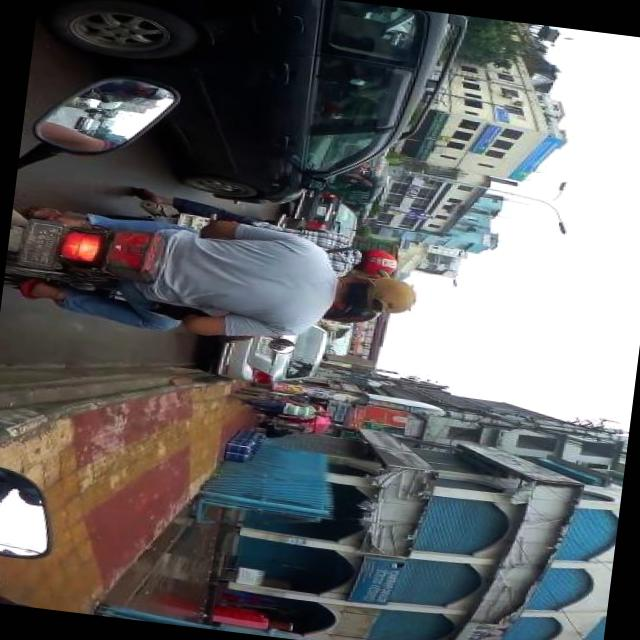car: (16, 0, 472, 235), (197, 310, 328, 388), (284, 186, 366, 244)
motorcycle: (4, 196, 429, 363), (308, 142, 394, 209)
